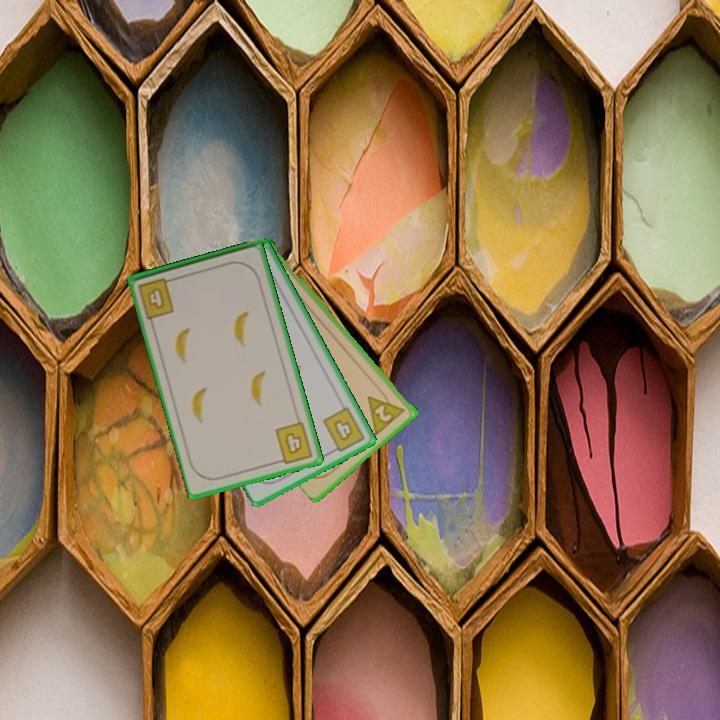2p: (364, 385, 408, 437)
4b: (319, 403, 368, 456), (272, 418, 316, 467), (134, 274, 178, 322)
